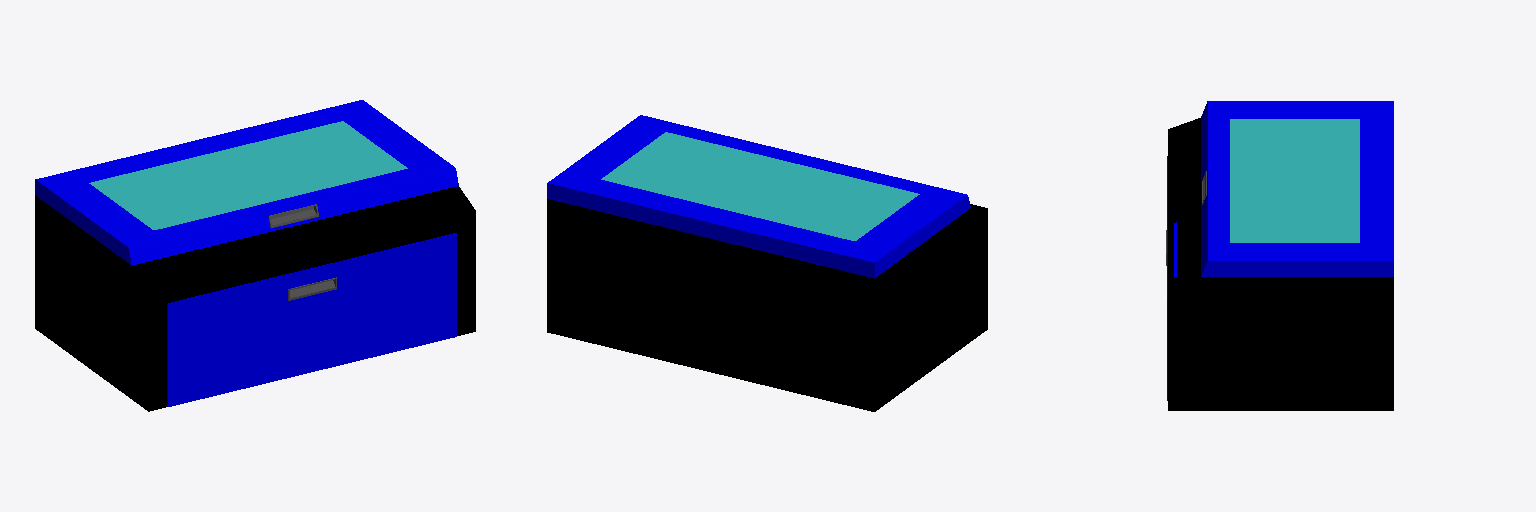
Rendered from plsClear.obj.
3 views of the same model, side by side, from view 1: azimuth 30°, elevation 25°; view 2: azimuth 150°, elevation 25°; view 3: azimuth 270°, elevation 25° (orthographic).
Visible parts, largest first — view 1: object_1, object_2, object_4, object_3, VLS3_PLS3_Motion_and_Doors_to_Body_1_132_0476_7__8__0_top_door_a, VLS3_PLS3_Motion_and_Doors_to_Body_1_132_0479_80__0_Front_Door_A; view 2: object_1, object_4, object_3; view 3: object_1, object_4, object_3.
Part boxes in pixels (left/top/right/bottom): object_1: left=35, top=186, right=475, bottom=411; object_2: left=167, top=233, right=456, bottom=406; object_4: left=35, top=100, right=458, bottom=265; object_3: left=89, top=121, right=407, bottom=229; VLS3_PLS3_Motion_and_Doors_to_Body_1_132_0476_7__8__0_top_door_a: left=268, top=204, right=318, bottom=228; VLS3_PLS3_Motion_and_Doors_to_Body_1_132_0479_80__0_Front_Door_A: left=288, top=277, right=336, bottom=300; object_1: left=547, top=199, right=987, bottom=411; object_4: left=547, top=115, right=970, bottom=278; object_3: left=601, top=132, right=919, bottom=240; object_1: left=1168, top=118, right=1393, bottom=410; object_4: left=1201, top=101, right=1393, bottom=276; object_3: left=1230, top=119, right=1359, bottom=242.
Bounding box in the file's own units: 44 × 19.21 × 26.52.